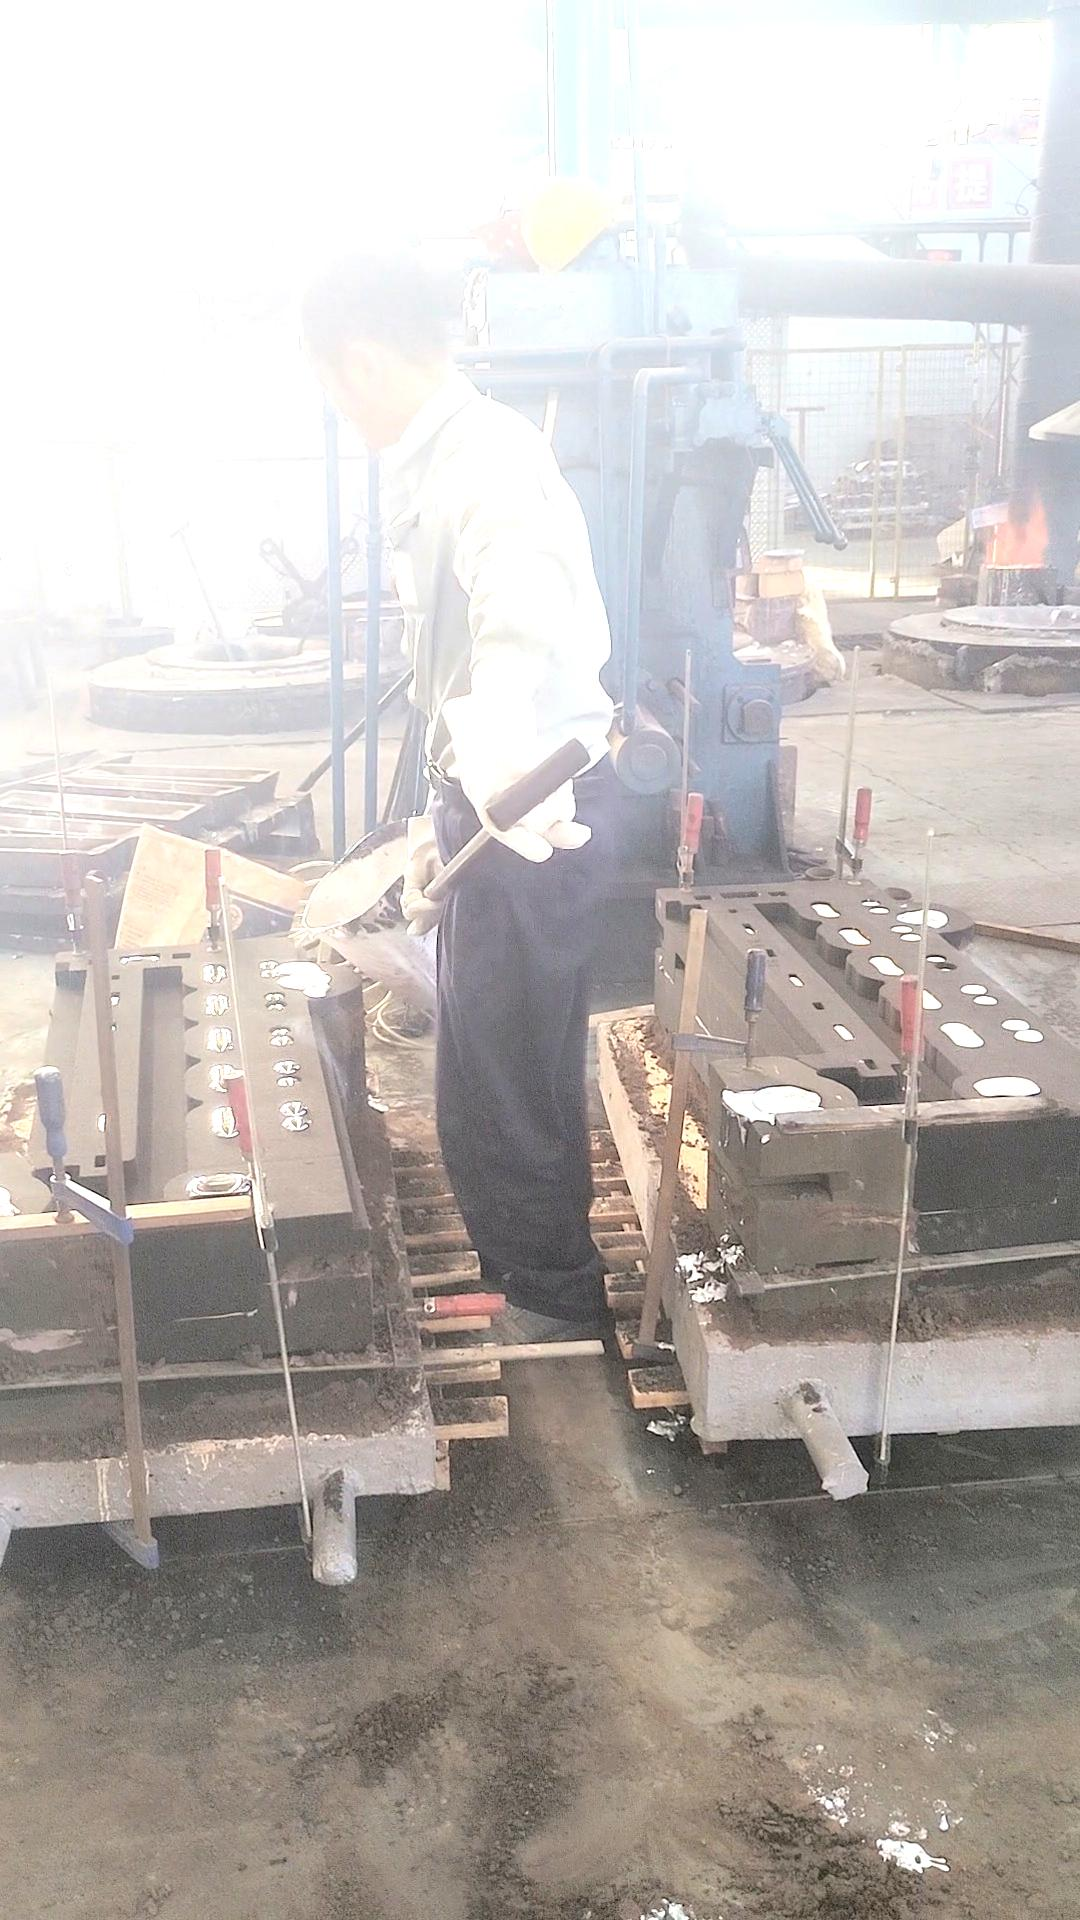pouring hole: (749, 1083, 822, 1113), (280, 963, 324, 989), (895, 907, 944, 931), (1, 1183, 25, 1224), (881, 885, 913, 901), (804, 866, 837, 880)
